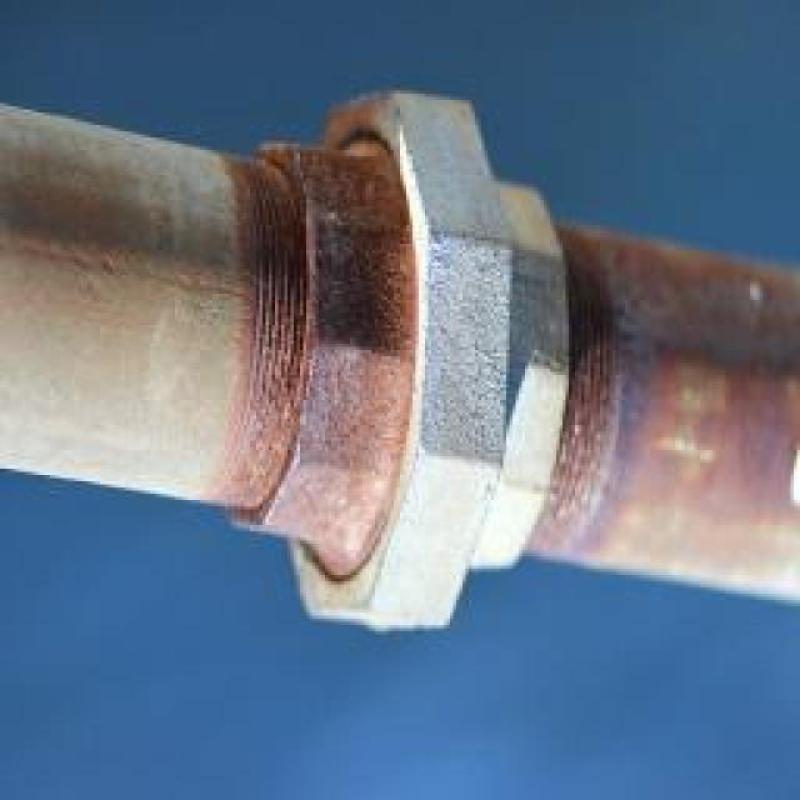corrosion: (581, 220, 791, 564), (233, 140, 398, 515)
